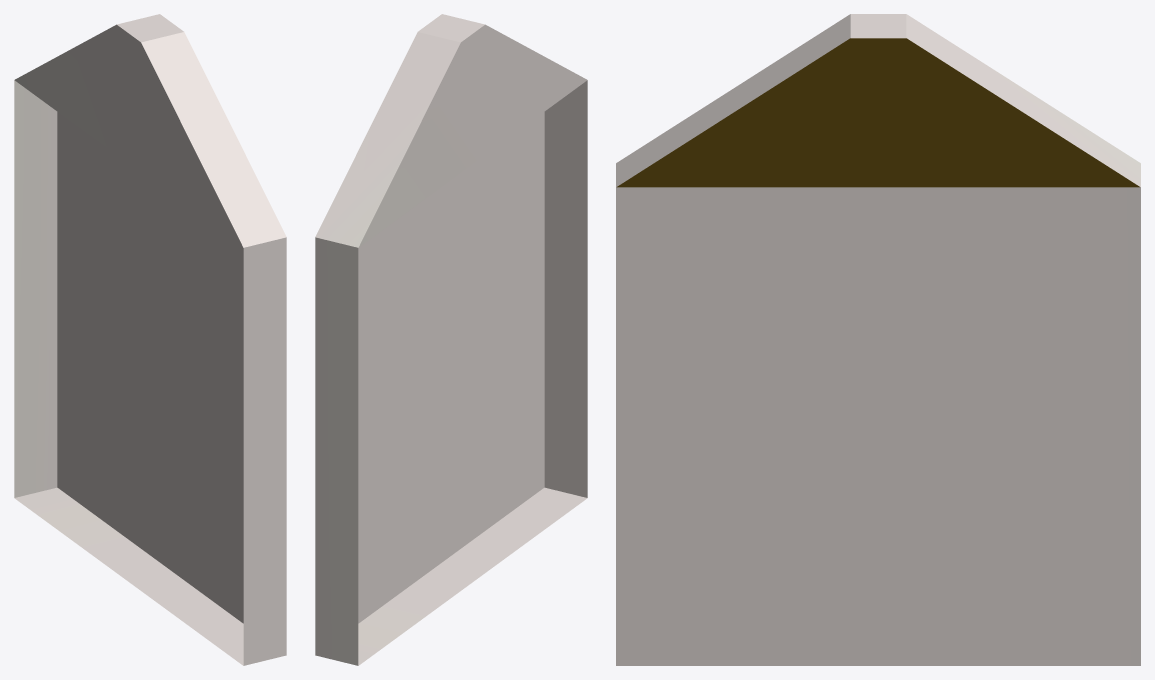
Rendered from SM_BackWall2_LOD0.fbx.
3 renders of one model, left to right at view 1: azimuth 30°, elevation 25°; view 2: azimuth 150°, elevation 25°; view 3: azimuth 270°, elevation 25°, orthographic. The views are drawn at different scales.
Parts seen in each view (by area): view 1: SM_BackWall2_LOD0; view 2: SM_BackWall2_LOD0; view 3: SM_BackWall2_LOD0.
Boxes of the visible parts, x1=… form: SM_BackWall2_LOD0: x1=14, y1=14, x2=286, y2=665; SM_BackWall2_LOD0: x1=315, y1=14, x2=587, y2=665; SM_BackWall2_LOD0: x1=616, y1=14, x2=1140, y2=665.
Size of the model in its own units: 0.81 by 9.81 by 7.43.
